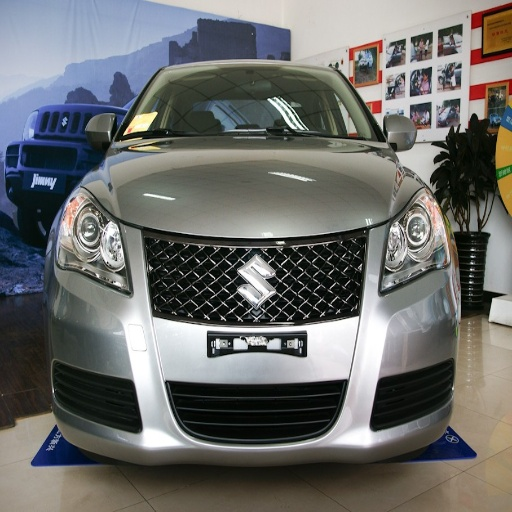front_bumper: (54, 219, 454, 463)
front_right_light: (55, 187, 130, 294)
hood: (87, 136, 422, 238)
